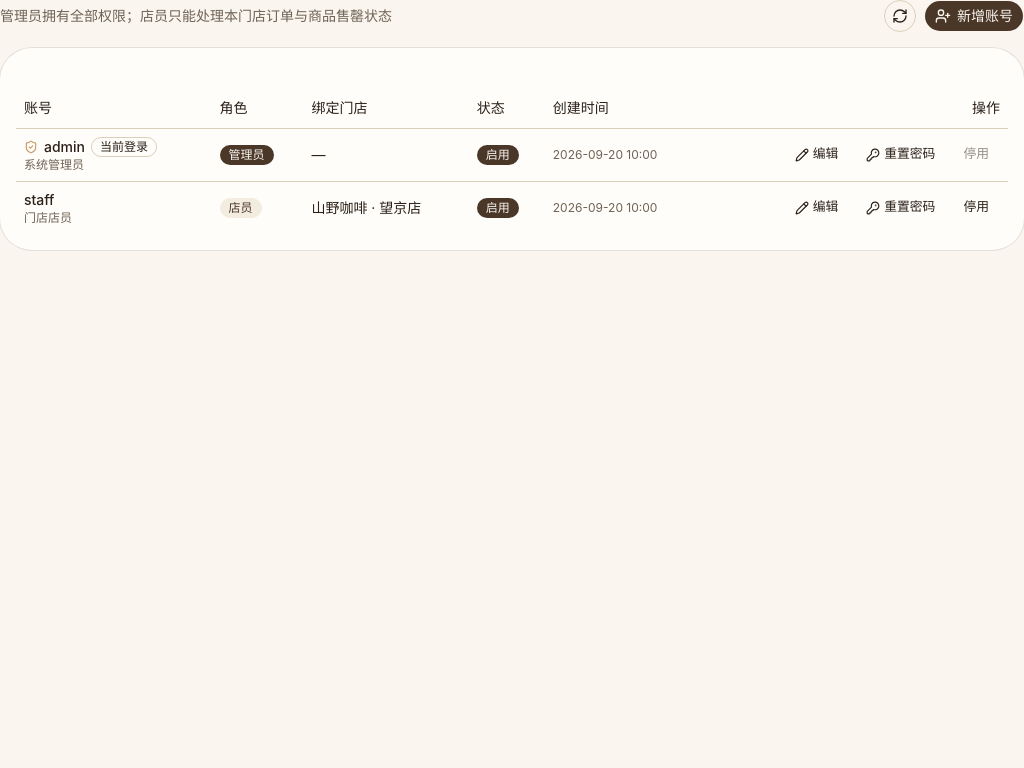
Test case: AccountsPage › 重置密码并展示新密码
Expected: the text "admin" is shown, top-left (44, 138), bottom-right (85, 154)
Click the button "重置密码" in the row of "staff" at (901, 208), box top-left (855, 194), bottom-right (946, 222)
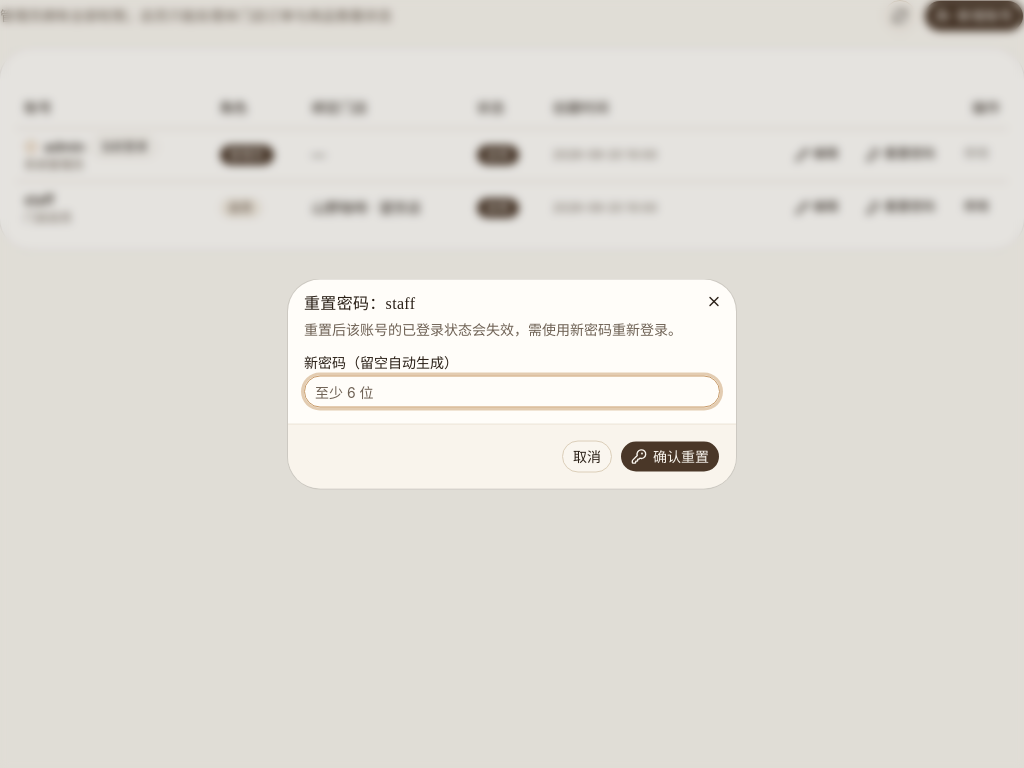
Click the button "确认重置" at (670, 456), box top-left (620, 440), bottom-right (720, 472)
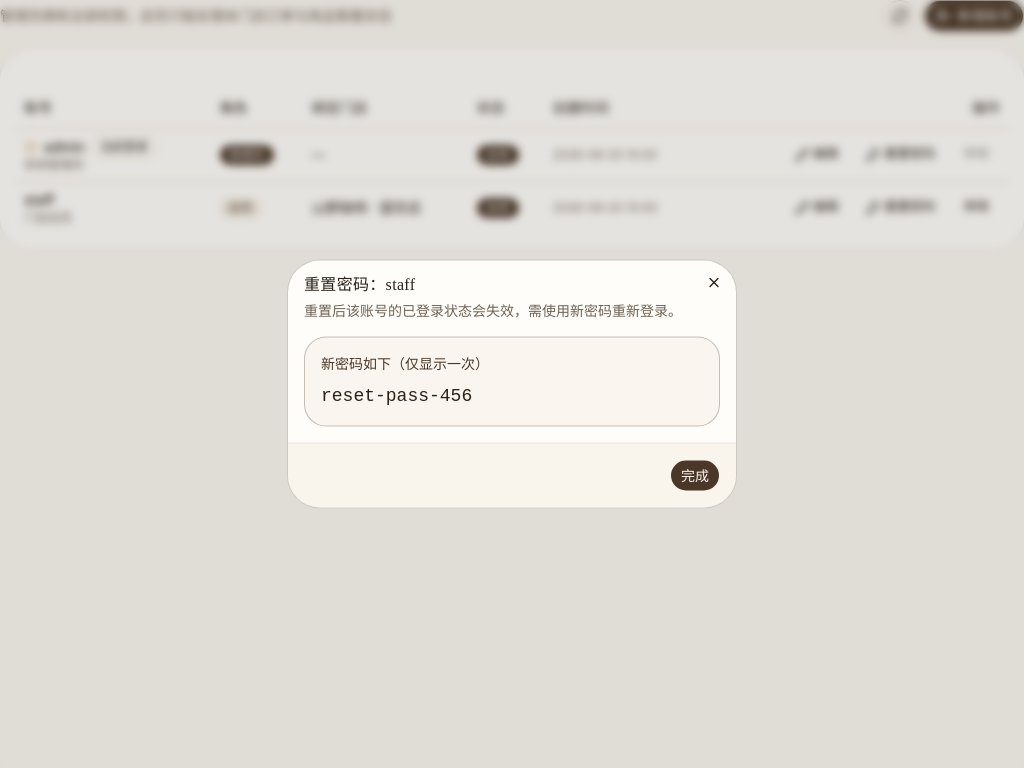
Result: the text "reset-pass-456" is shown at top-left (321, 386), bottom-right (472, 406)
